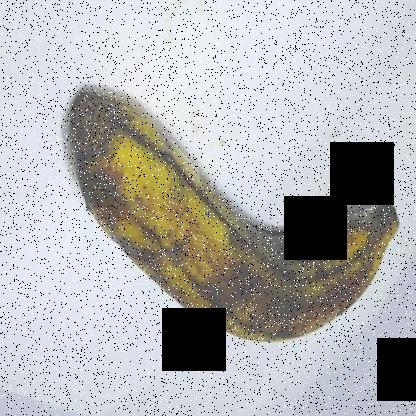overripe: (68, 61, 404, 360)
rotten: (296, 195, 405, 268)
